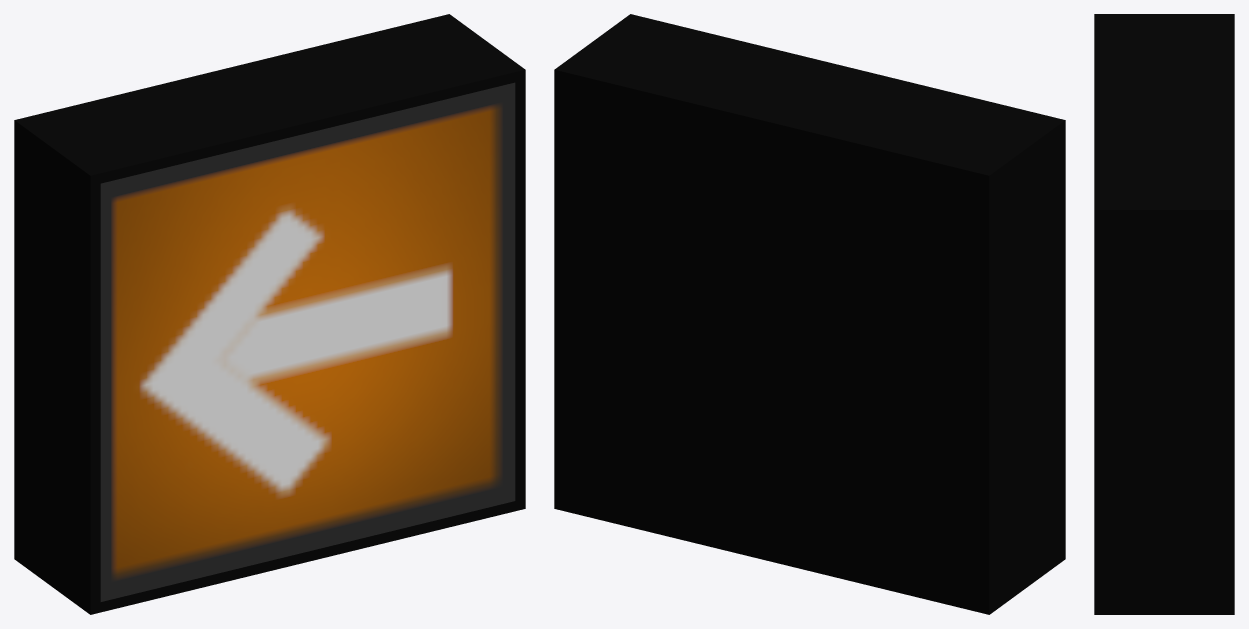
The model's file is Arrow.fbx.
The picture shows the model from 3 angles, left to right: view 1: azimuth 30°, elevation 25°; view 2: azimuth 150°, elevation 25°; view 3: azimuth 270°, elevation 25°; orthographic projection. The views are drawn at different scales.
Visible parts, largest first — view 1: Cube; view 2: Cube; view 3: Cube.
Part boxes in pixels (x1,y1,x2,y2): Cube: [14, 14, 525, 614]; Cube: [554, 14, 1065, 614]; Cube: [1094, 14, 1234, 614].
Size of the model in its own units: 215 by 208 by 65.2.
